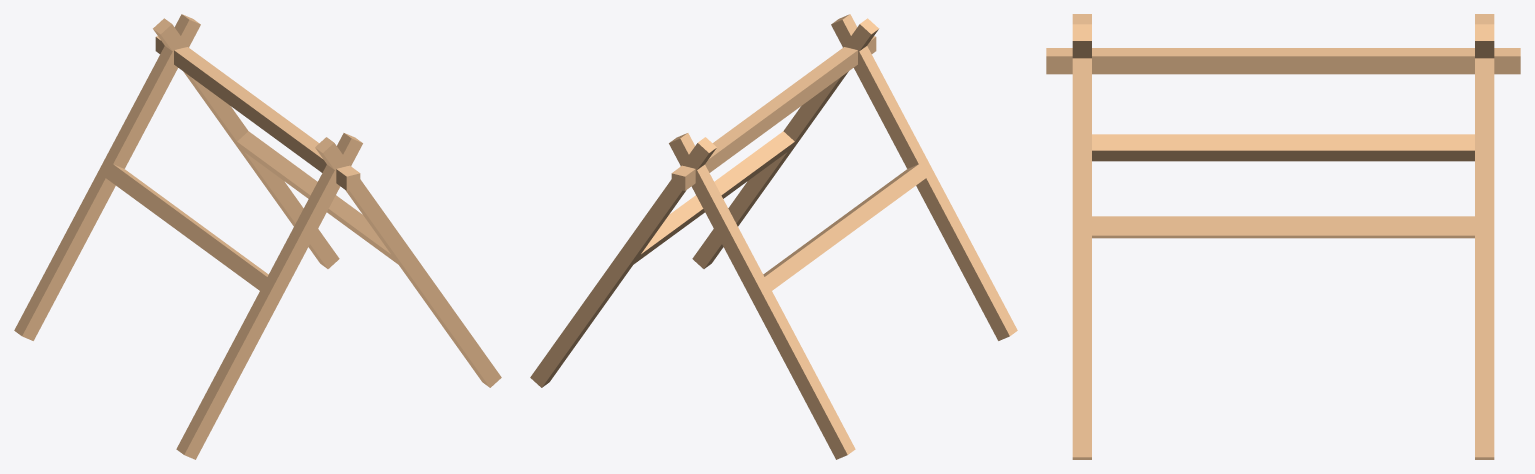
The picture shows the model from 3 angles, left to right: view 1: azimuth 30°, elevation 25°; view 2: azimuth 150°, elevation 25°; view 3: azimuth 270°, elevation 25°; orthographic projection. The views are drawn at different scales.
Visible parts, largest first — view 1: tent; view 2: tent; view 3: tent.
Part boxes in pixels (x1,y1,x2,y2): tent: [14, 14, 501, 459]; tent: [530, 14, 1017, 459]; tent: [1046, 14, 1520, 459].
Size of the model in its own units: 0.5392 by 0.4598 by 0.5623.
